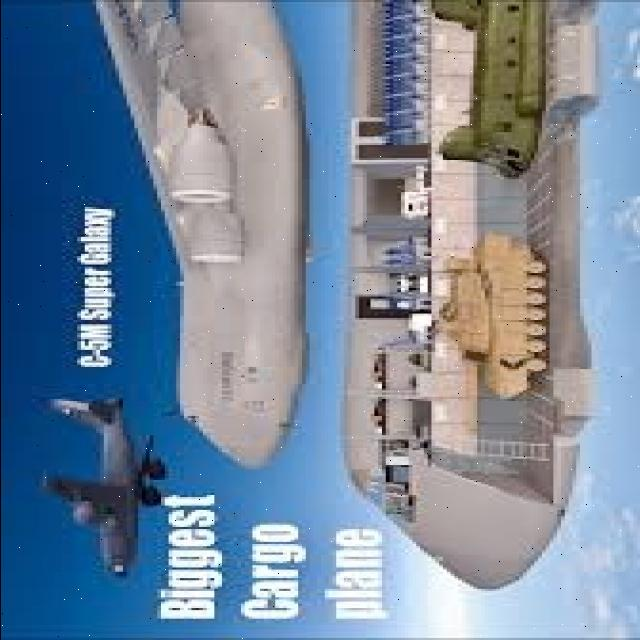C5: (84, 0, 339, 480), (41, 366, 158, 604)
